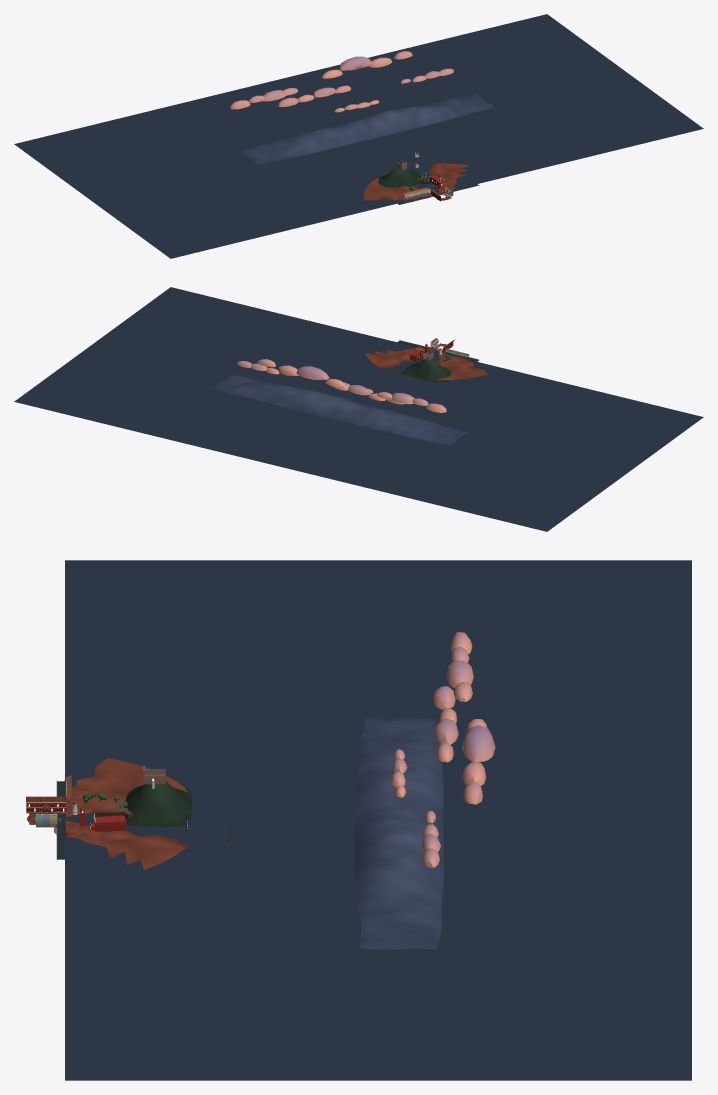
The model's file is arena_melaka.glb.
3 views of the same model, one above another, from view 1: azimuth 30°, elevation 25°; view 2: azimuth 150°, elevation 25°; view 3: azimuth 270°, elevation 25° (orthographic). The views are drawn at different scales.
Visible parts, largest first — view 1: EnvFar_MatWater_river, EnvFar_MatLeaf_canopy, EnvFar_MatPlaster_wall, EnvFar_MatGround_laterite; view 2: EnvFar_MatWater_river, EnvFar_MatLeaf_canopy, EnvFar_MatPlaster_wall, EnvFar_MatGround_laterite; view 3: EnvFar_MatWater_river, EnvFar_MatLeaf_canopy, EnvFar_MatPlaster_wall, EnvFar_MatGround_laterite.
Boxes of the visible parts, x1,y1,x2,y2 form: EnvFar_MatWater_river: (14, 14, 703, 258); EnvFar_MatLeaf_canopy: (241, 93, 493, 190); EnvFar_MatPlaster_wall: (230, 51, 453, 200); EnvFar_MatGround_laterite: (364, 163, 469, 200); EnvFar_MatWater_river: (14, 287, 703, 531); EnvFar_MatLeaf_canopy: (213, 355, 466, 444); EnvFar_MatPlaster_wall: (237, 341, 477, 412); EnvFar_MatGround_laterite: (365, 347, 488, 380); EnvFar_MatWater_river: (65, 560, 691, 1080); EnvFar_MatLeaf_canopy: (82, 718, 443, 949); EnvFar_MatPlaster_wall: (64, 632, 495, 867); EnvFar_MatGround_laterite: (64, 758, 189, 869).
Size of the model in its own units: 800 by 79.96 by 433.
